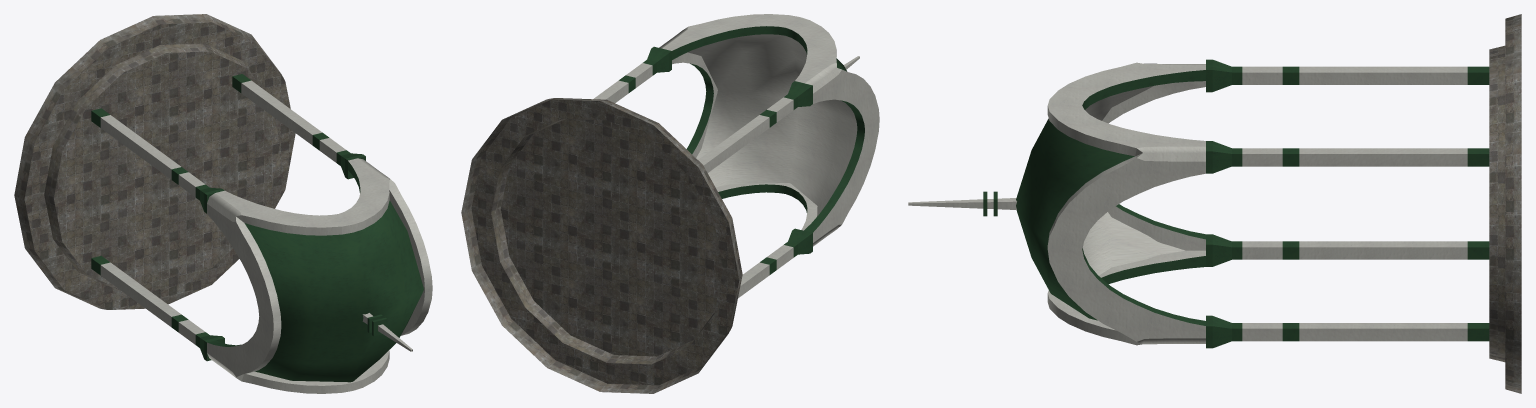
Rendered from nt_2020_vista_arch_LOD0.obj.
The picture shows the model from 3 angles, left to right: view 1: azimuth 30°, elevation 25°; view 2: azimuth 150°, elevation 25°; view 3: azimuth 270°, elevation 25°; orthographic projection. The views are drawn at different scales.
Parts seen in each view (by area): view 1: ceramic_floor_tile_stone_la2, mtl_nt_2020_plastic_red_roof, plaster_whitewall_01; view 2: ceramic_floor_tile_stone_la2, plaster_whitewall_01, mtl_nt_2020_plastic_red_roof; view 3: plaster_whitewall_01, mtl_nt_2020_plastic_red_roof, ceramic_floor_tile_stone_la2.
Boxes of the visible parts, x1,y1,x2,y2 form: ceramic_floor_tile_stone_la2: [14, 14, 295, 309]; mtl_nt_2020_plastic_red_roof: [91, 74, 423, 382]; plaster_whitewall_01: [100, 80, 432, 393]; ceramic_floor_tile_stone_la2: [461, 98, 742, 393]; plaster_whitewall_01: [593, 14, 879, 298]; mtl_nt_2020_plastic_red_roof: [619, 26, 864, 274]; plaster_whitewall_01: [908, 62, 1467, 345]; mtl_nt_2020_plastic_red_roof: [983, 59, 1489, 348]; ceramic_floor_tile_stone_la2: [1489, 14, 1521, 393].
Bounding box in the file's own units: 1443 × 1443 × 2326.
